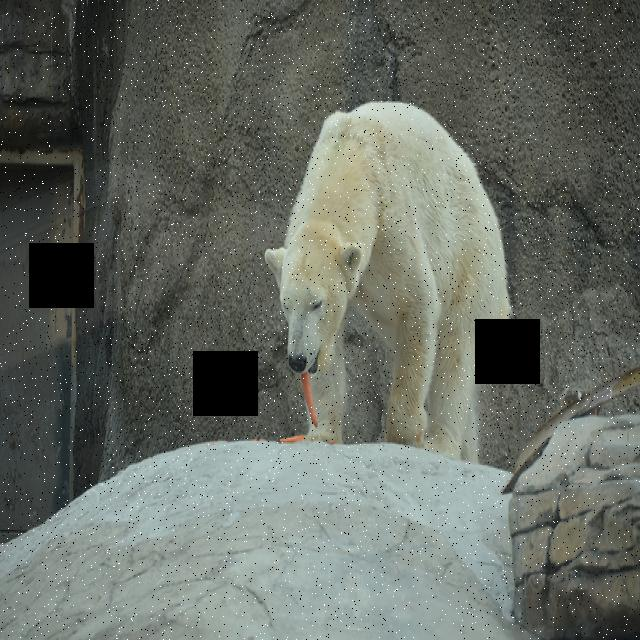Bear: (266, 98, 512, 466)
